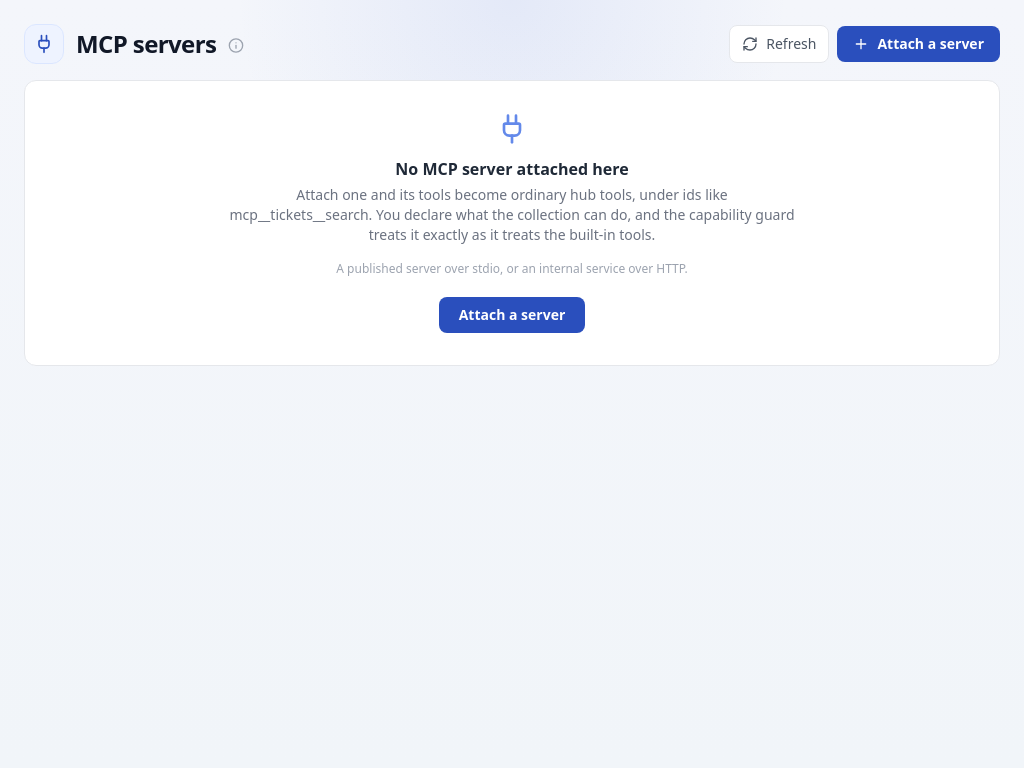
Scenario: Mcp — the empty state › switches the form between a child process and a URL
The width and height of the screenshot is (1024, 768).
Check: the heading "No MCP server attached here" is shown, box [395,158,629,180]
Click the button "Attach a server" in the row of "MCP servers" at [919, 44], box [837,26,1000,62]
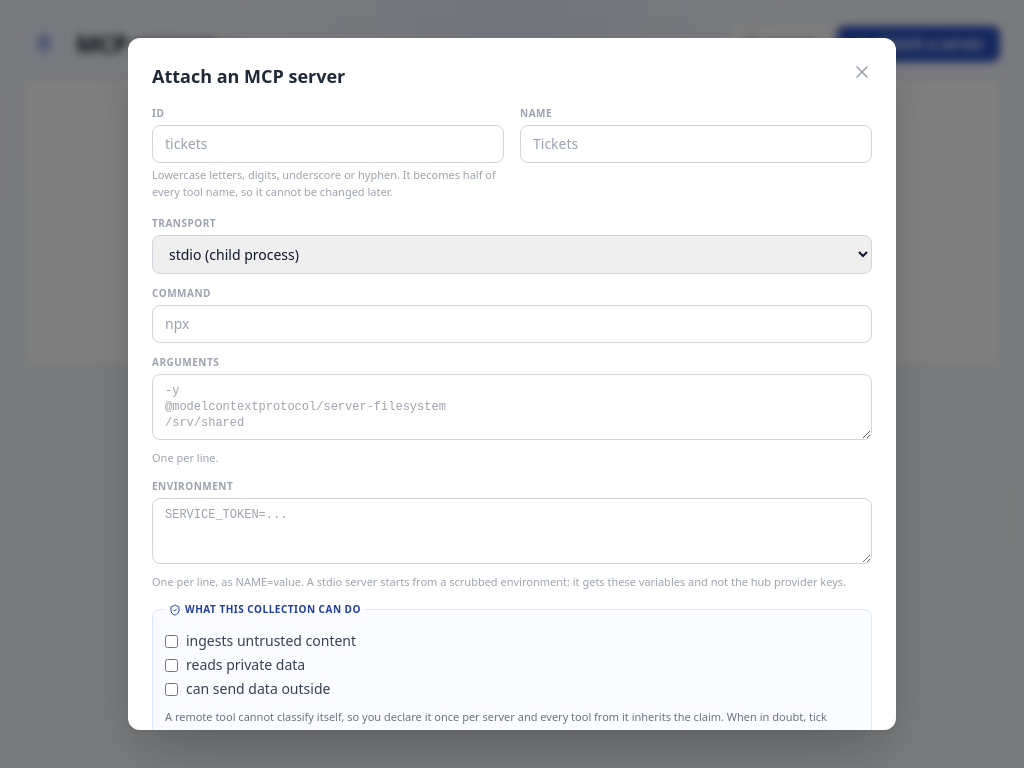
Check: the text "URL" is not shown
Check: the text "Command" is shown, box [152,286,211,300]
Select "Streamable HTTP" in the dropdown showing "stdio" at [512, 255], box [152,235,872,274]
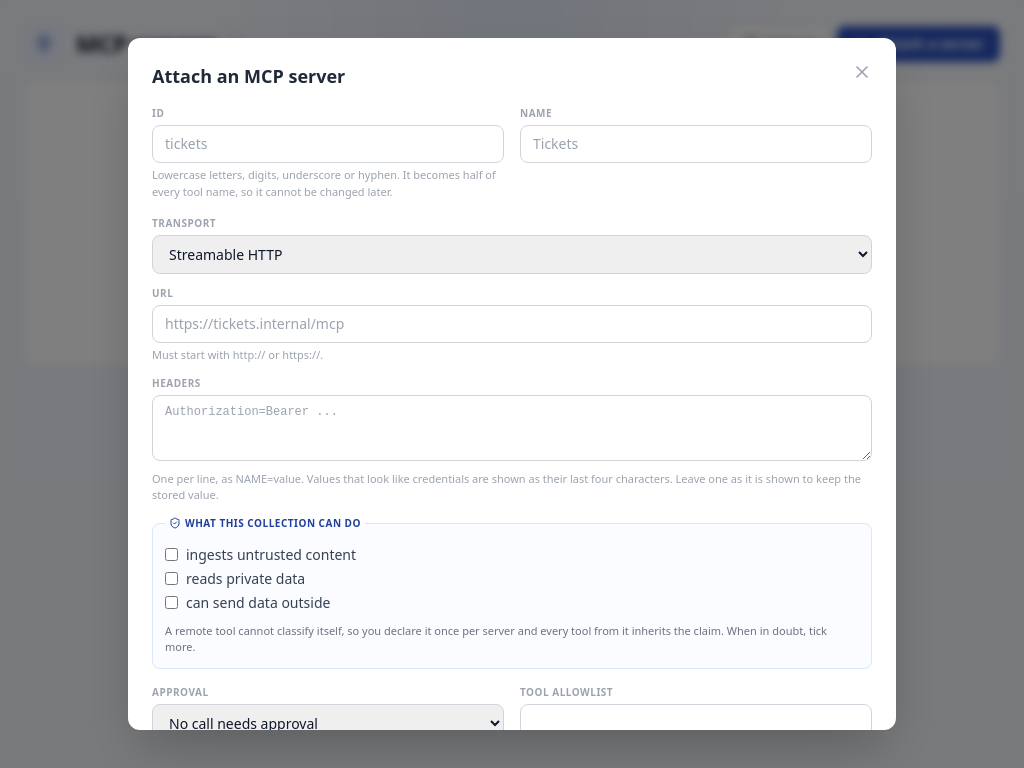
Check: the text "URL" is shown, box [152,286,173,300]
Check: the text "Command" is gone
